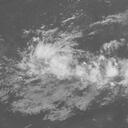cyclone: (30, 40, 94, 97)
